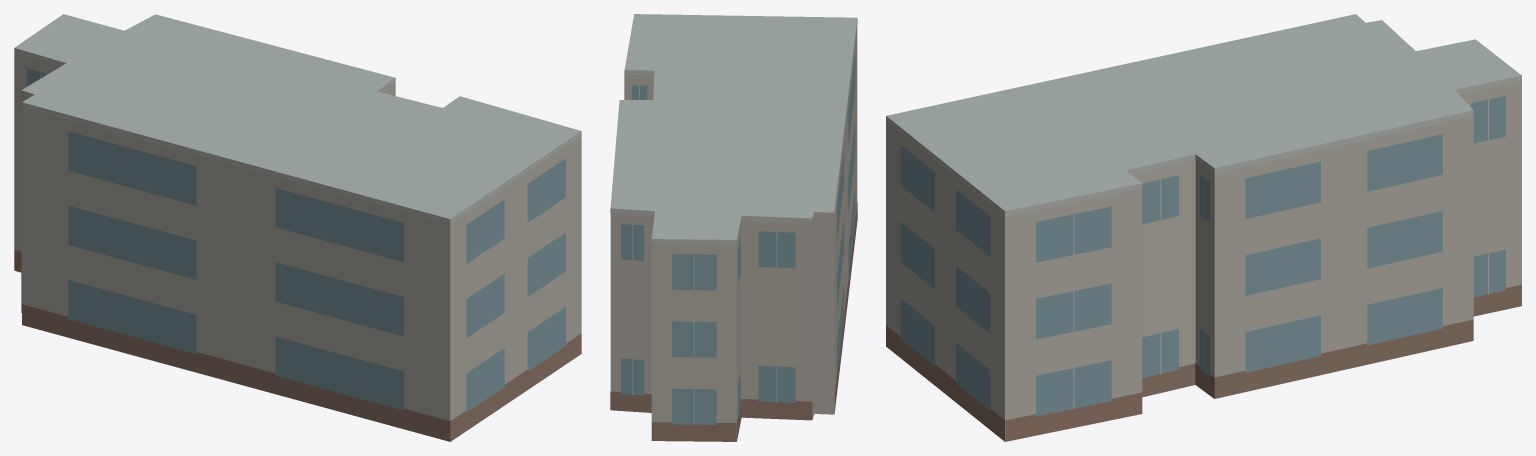
Rendered from survey-upis-33001466.glb.
3 renders of one model, left to right at view 1: azimuth 30°, elevation 25°; view 2: azimuth 150°, elevation 25°; view 3: azimuth 270°, elevation 25°, orthographic. The views are drawn at different scales.
Parts seen in each view (by area): view 1: survey-upis-33001466.tmp; view 2: survey-upis-33001466.tmp; view 3: survey-upis-33001466.tmp.
Boxes of the visible parts, x1,y1,x2,y2 form: survey-upis-33001466.tmp: (14, 14, 581, 441); survey-upis-33001466.tmp: (610, 14, 857, 441); survey-upis-33001466.tmp: (886, 14, 1521, 441).
Bounding box in the file's own units: 19.26 × 10.5 × 26.24.
